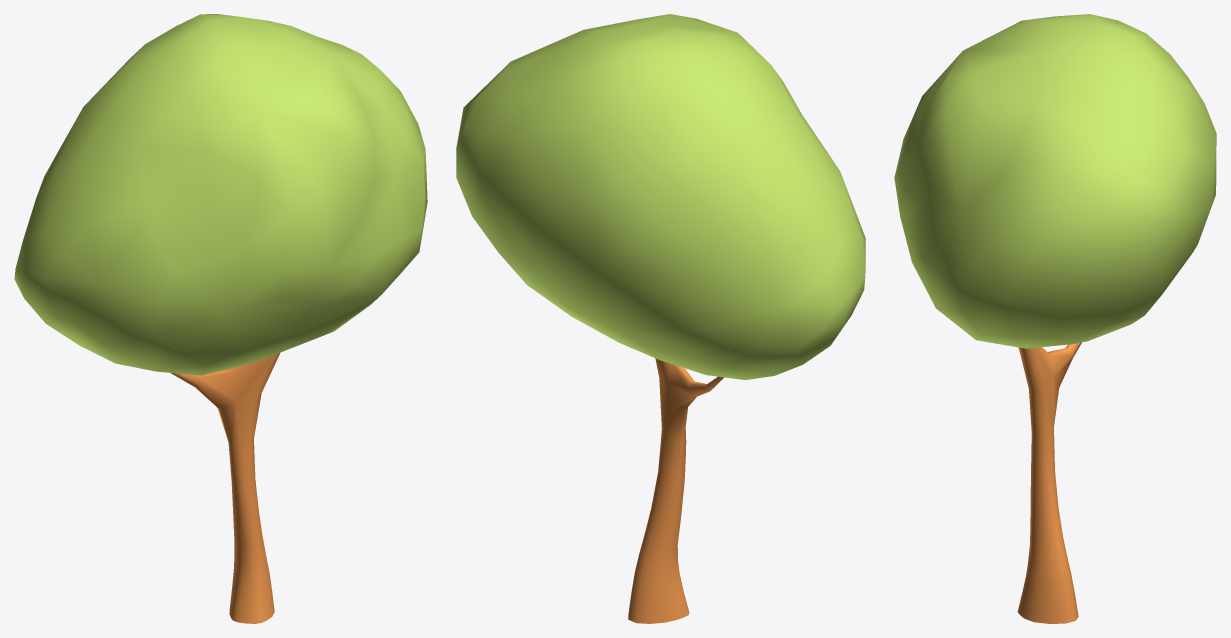
File: BigTree_A.fbx
The picture shows the model from 3 angles, left to right: view 1: azimuth 30°, elevation 25°; view 2: azimuth 150°, elevation 25°; view 3: azimuth 270°, elevation 25°; orthographic projection. The views are drawn at different scales.
Parts seen in each view (by area): view 1: Oak_Tree_l_04; view 2: Oak_Tree_l_04; view 3: Oak_Tree_l_04.
Boxes of the visible parts, box(x1,y1,x2,y2) form: Oak_Tree_l_04: box(14, 14, 427, 623); Oak_Tree_l_04: box(456, 14, 865, 623); Oak_Tree_l_04: box(894, 14, 1216, 623).
Bounding box in the file's own units: 744 × 1090 × 546.
